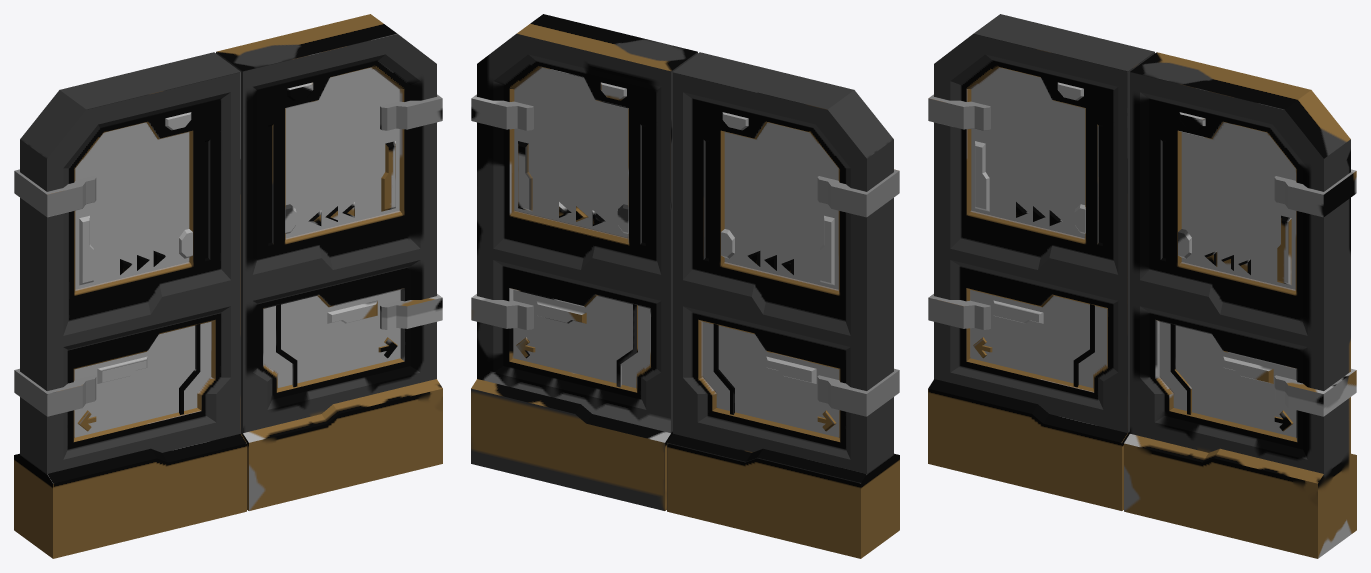
The model's file is space_doors.fbx.
3 renders of one model, left to right at view 1: azimuth 30°, elevation 25°; view 2: azimuth 150°, elevation 25°; view 3: azimuth 330°, elevation 25°, orthographic.
Visible parts, largest first — view 1: Door_Double.L.001, Door_Double.R.001; view 2: Door_Double.L.001, Door_Double.R.001; view 3: Door_Double.R.001, Door_Double.L.001.
Part boxes in pixels (x1,y1,x2,y2): Door_Double.L.001: (14,52,246,558); Door_Double.R.001: (216,14,442,510); Door_Double.L.001: (667,52,899,558); Door_Double.R.001: (471,14,697,510); Door_Double.R.001: (1124,52,1356,558); Door_Double.L.001: (928,14,1154,510).
Bounding box in the file's own units: 265 × 279 × 45.42.
2 materials, 2 textured.
